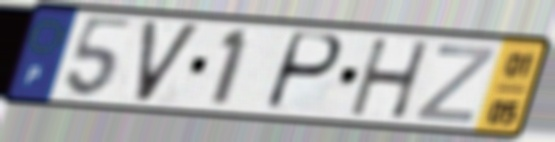1: (207, 27, 252, 109)
5: (61, 13, 140, 103)
H: (347, 37, 434, 122)
P: (260, 29, 347, 115)
V: (134, 17, 206, 107)
Z: (410, 42, 499, 126)
